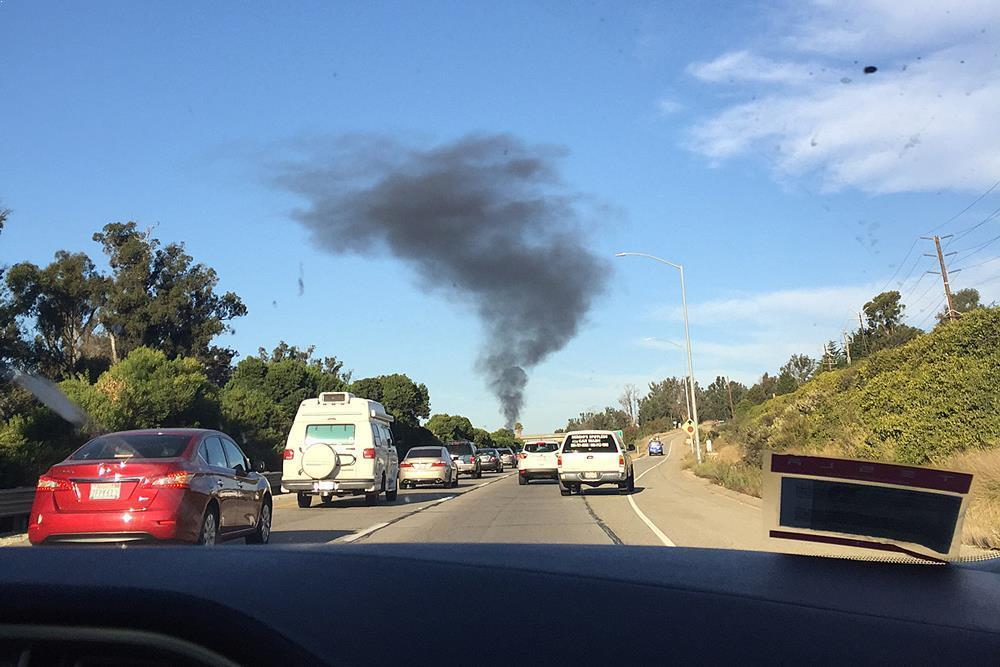smoke: (382, 188, 510, 252), (523, 252, 575, 328)
